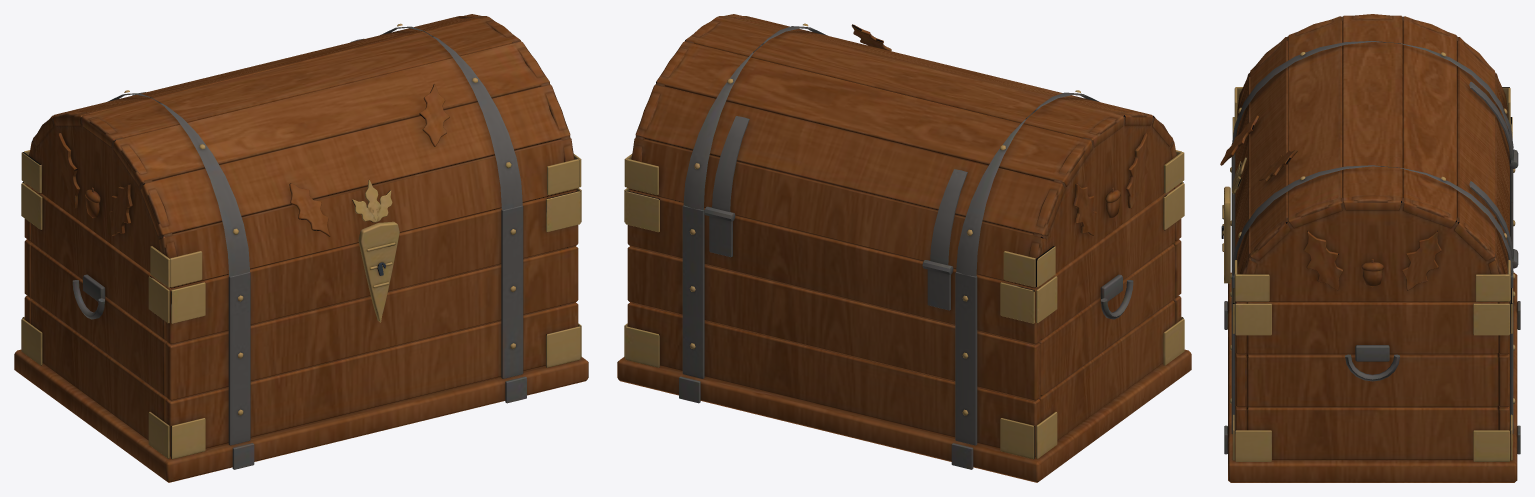
File: treasure_chest.glb
3 views of the same model, side by side, from view 1: azimuth 30°, elevation 25°; view 2: azimuth 150°, elevation 25°; view 3: azimuth 270°, elevation 25° (orthographic). The views are drawn at different scales.
Visible parts, largest first — view 1: treasure_chest, Lid; view 2: treasure_chest, Lid; view 3: Lid, treasure_chest.
Part boxes in pixels (x1,y1,x2,y2): treasure_chest: [14, 181, 588, 482]; Lid: [21, 14, 581, 322]; treasure_chest: [617, 181, 1191, 482]; Lid: [624, 14, 1184, 288]; Lid: [1220, 14, 1513, 302]; treasure_chest: [1224, 117, 1520, 482].
Bounding box in the file's own units: 0.95 × 0.6394 × 0.6127.
Materials: 1 (1 with a texture image).
